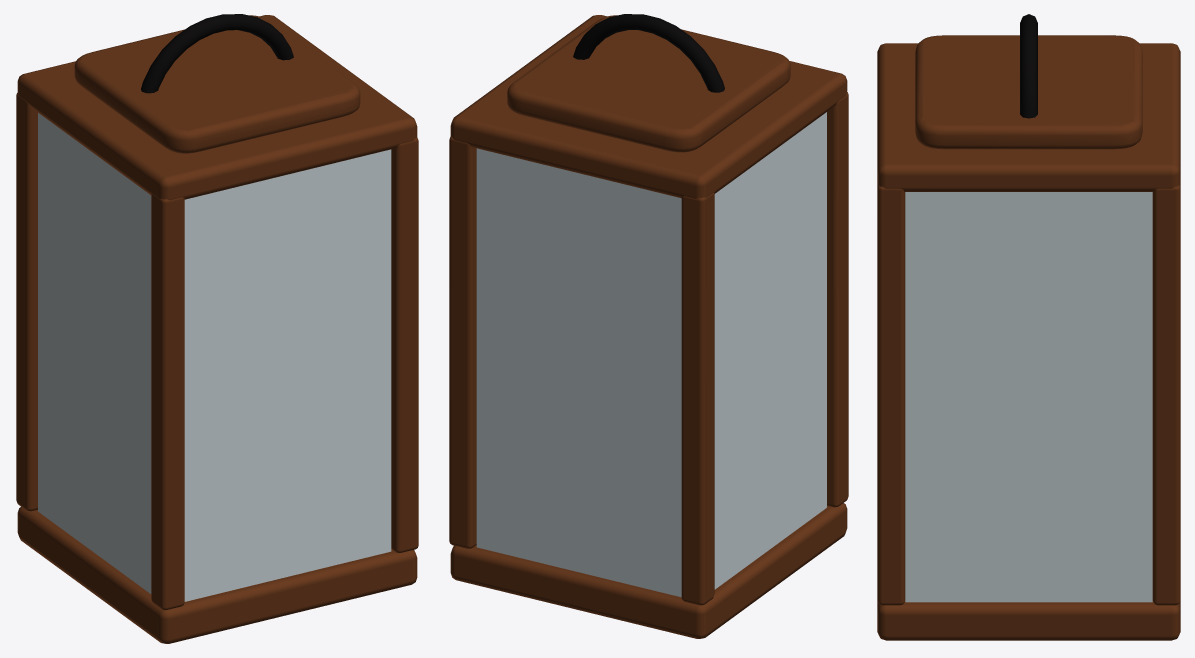
Rendered from outdoor-lantern-lod1.glb.
3 renders of one model, left to right at view 1: azimuth 30°, elevation 25°; view 2: azimuth 150°, elevation 25°; view 3: azimuth 270°, elevation 25°, orthographic. The views are drawn at different scales.
Parts seen in each view (by area): view 1: Lantern glass, Oiled teak, Powder-coated bronze aluminium; view 2: Lantern glass, Oiled teak, Powder-coated bronze aluminium; view 3: Lantern glass, Oiled teak, Powder-coated bronze aluminium.
Boxes of the visible parts, bbox=[...] form: Lantern glass: bbox=[38, 113, 391, 601]; Oiled teak: bbox=[16, 15, 418, 643]; Powder-coated bronze aluminium: bbox=[141, 14, 293, 93]; Lantern glass: bbox=[476, 112, 826, 597]; Oiled teak: bbox=[449, 15, 848, 638]; Powder-coated bronze aluminium: bbox=[573, 14, 724, 92]; Lantern glass: bbox=[905, 192, 1152, 602]; Oiled teak: bbox=[877, 35, 1180, 640]; Powder-coated bronze aluminium: bbox=[1020, 14, 1037, 118].
Size of the model in its own units: 0.3048 by 0.6185 by 0.3048.
